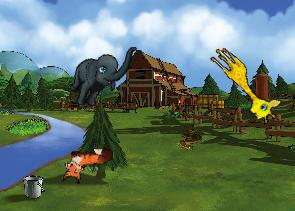elephant: (66, 34, 137, 115)
fox: (60, 146, 114, 184)
giraffe: (200, 43, 286, 127)
